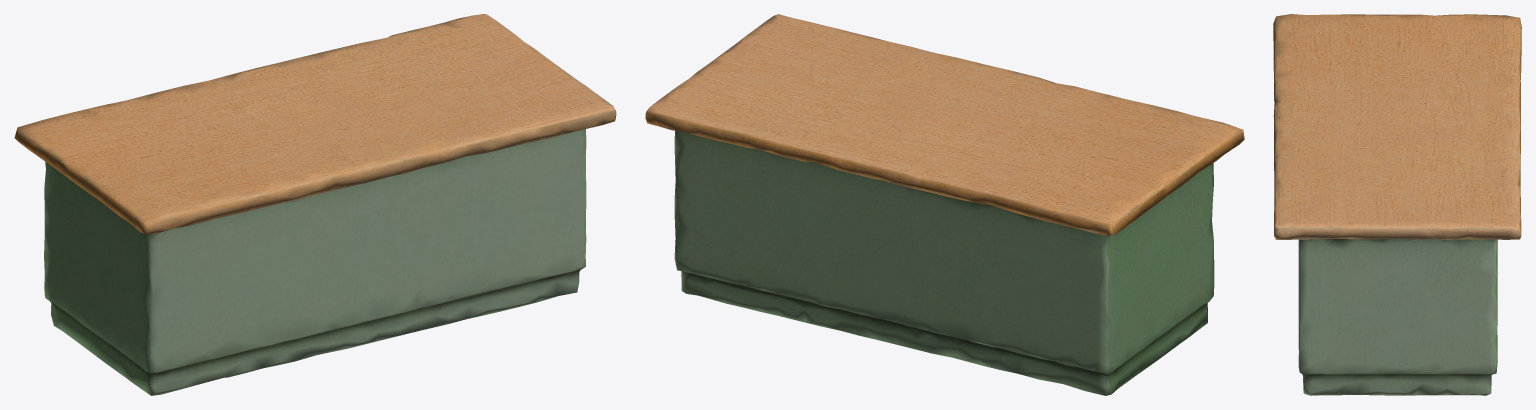
File: P_Counter_h160.fbx
3 renders of one model, left to right at view 1: azimuth 30°, elevation 25°; view 2: azimuth 150°, elevation 25°; view 3: azimuth 270°, elevation 25°, orthographic. The views are drawn at different scales.
Visible parts, largest first — view 1: texture_mapping; view 2: texture_mapping; view 3: texture_mapping.
Boxes of the visible parts, bbox=[...] form: texture_mapping: bbox=[14, 14, 616, 395]; texture_mapping: bbox=[645, 14, 1244, 395]; texture_mapping: bbox=[1273, 14, 1521, 395].
Size of the model in its own units: 1 by 0.492 by 0.3926.
1 material, 1 textured.
